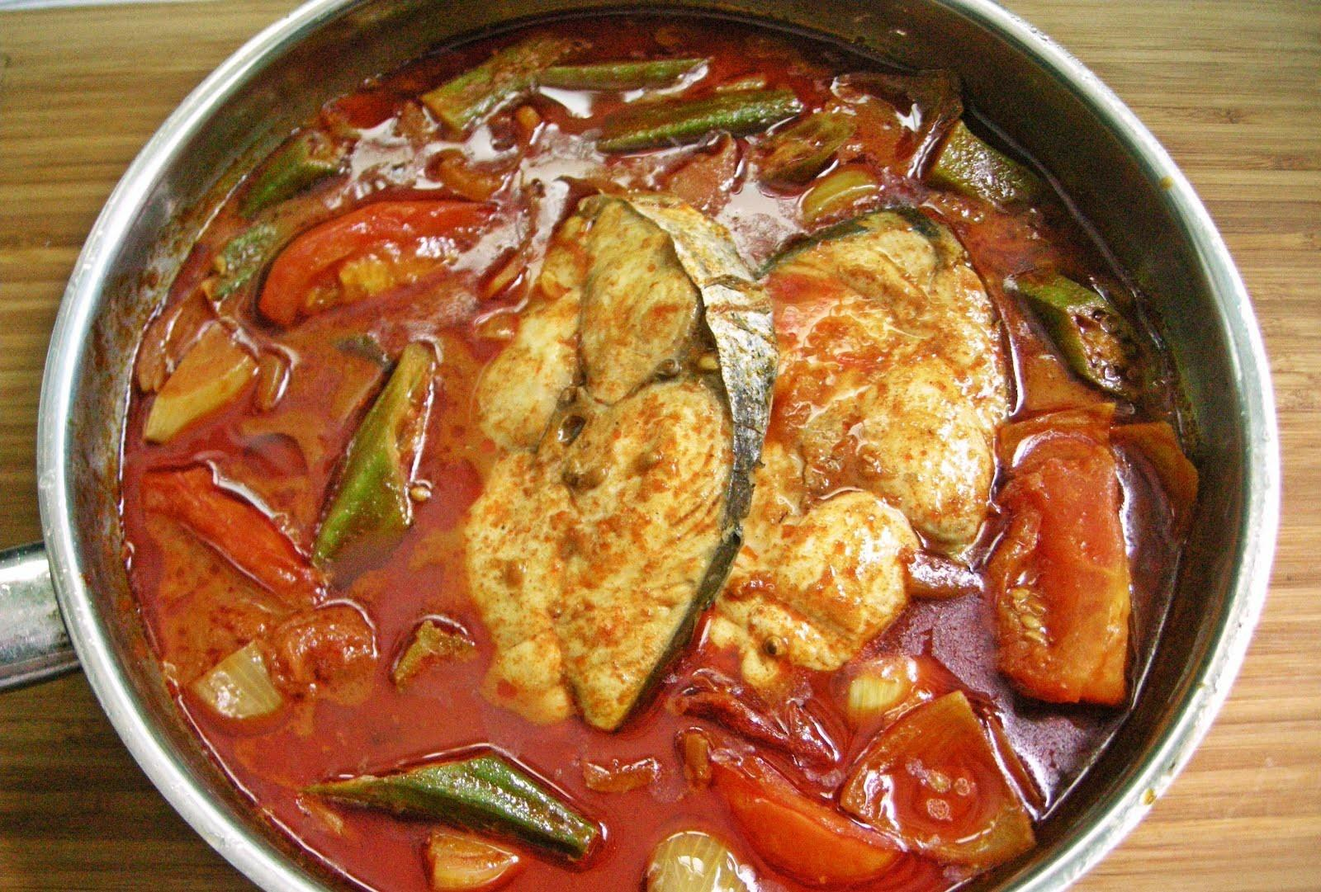FishCurry: (110, 0, 1200, 892)
